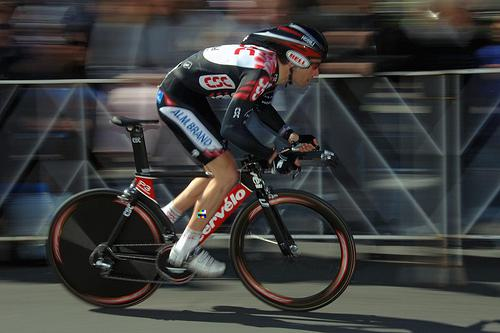car: (45, 114, 359, 314)
person: (155, 22, 331, 279)
